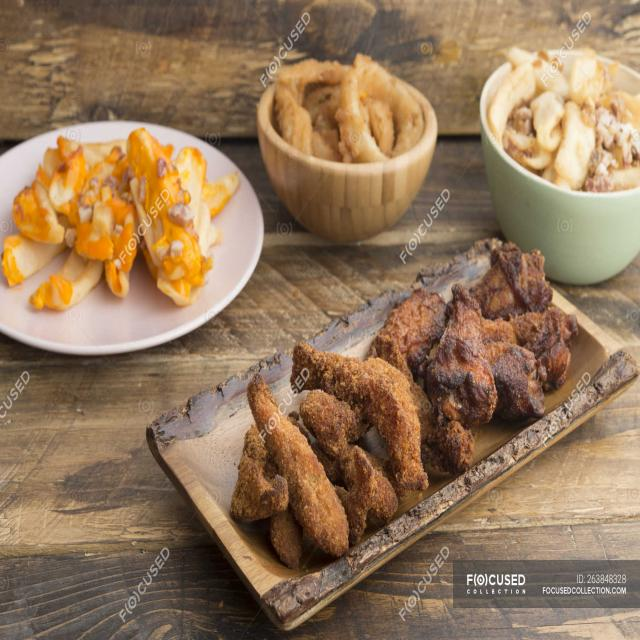Chicken Wings: (222, 243, 590, 567)
French Fries: (9, 102, 248, 335)
Onion Rings: (257, 49, 437, 188)
